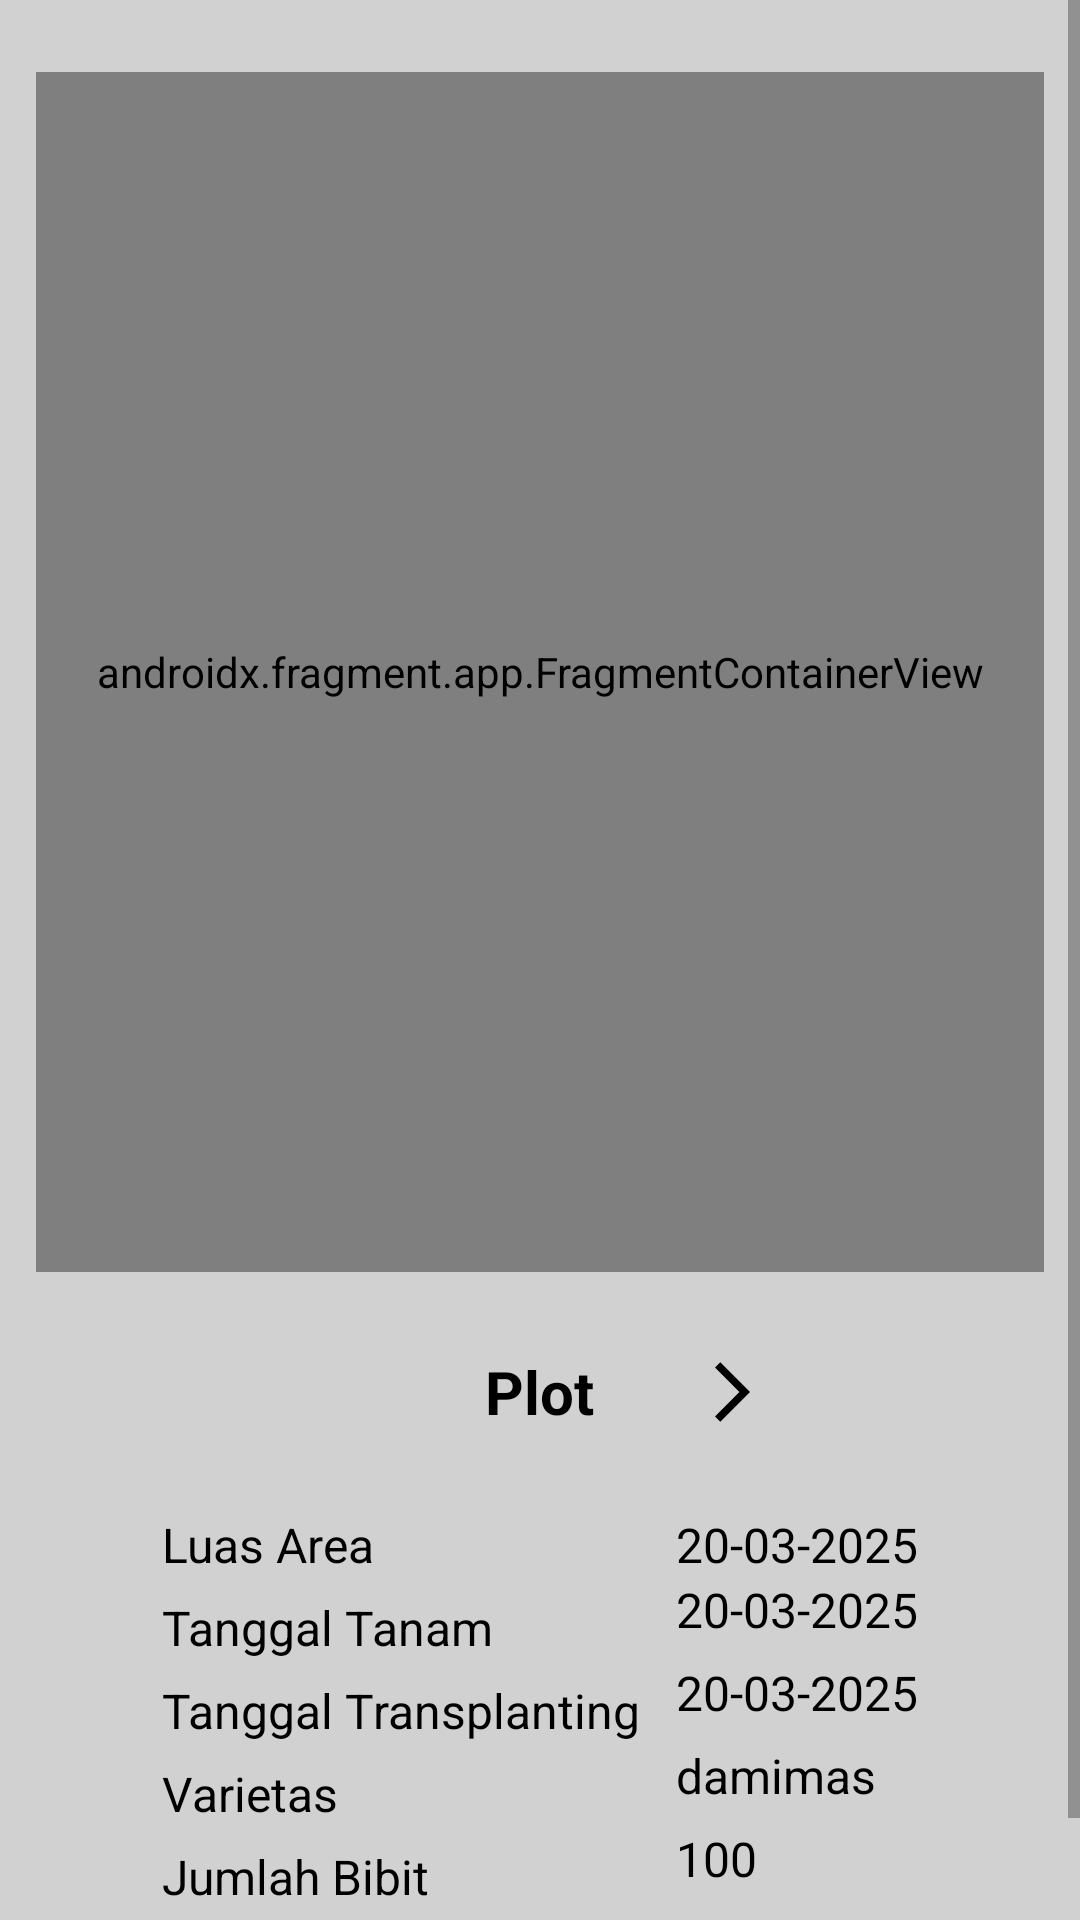

Screen size 1080px×1920px. Icon name, then its center in pixels as (x,y):
next: (732,1392)
